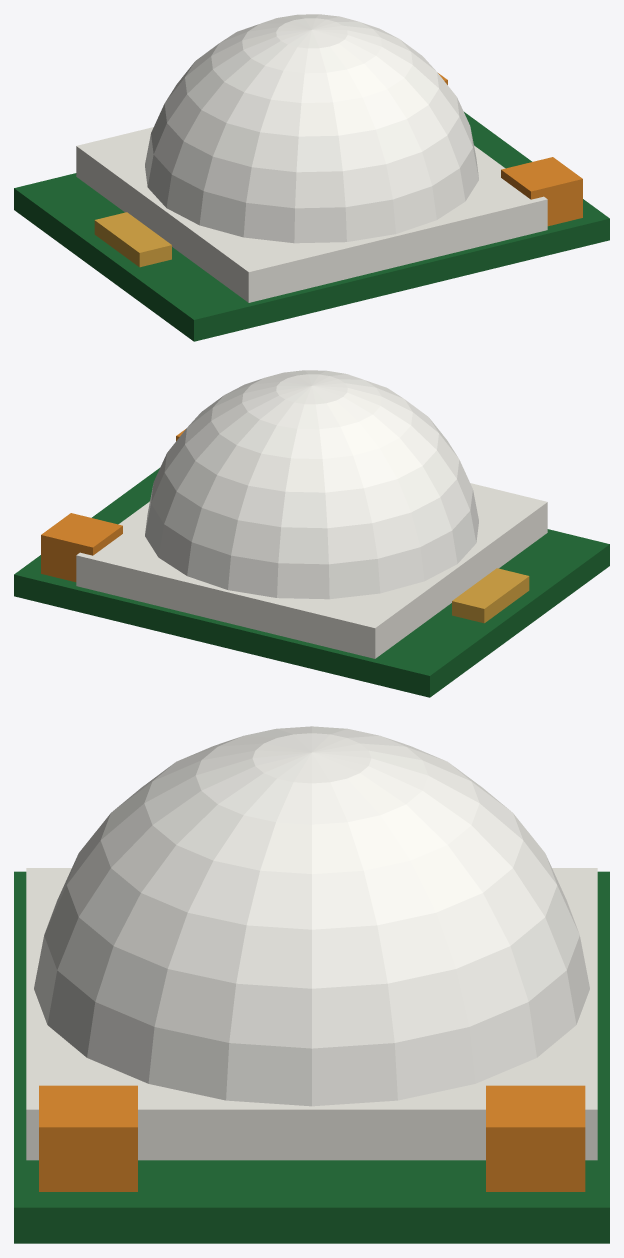
The model's file is gridie-pir.glb.
3 renders of one model, top to bottom at view 1: azimuth 30°, elevation 25°; view 2: azimuth 150°, elevation 25°; view 3: azimuth 270°, elevation 25°, orthographic. The views are drawn at different scales.
Size of the model in its own units: 0.032 by 0.0144 by 0.024.
